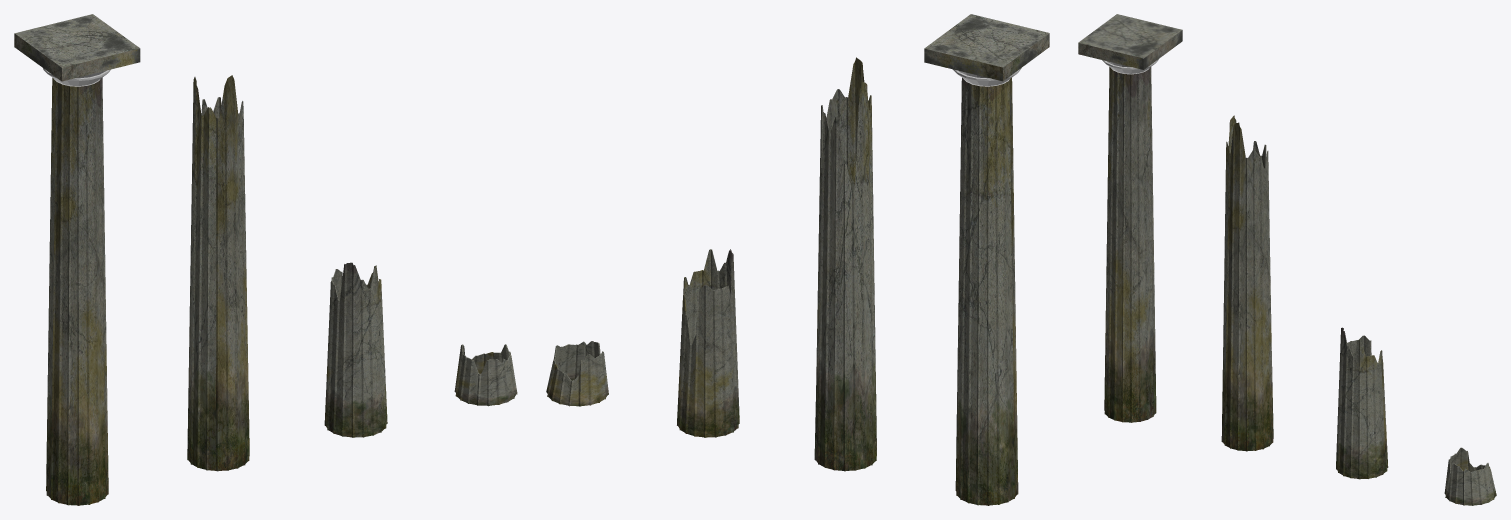
File: OldColumn.obj
3 renders of one model, left to right at view 1: azimuth 30°, elevation 25°; view 2: azimuth 150°, elevation 25°; view 3: azimuth 330°, elevation 25°, orthographic. The views are drawn at different scales.
Parts seen in each view (by area): view 1: OldColumn01_part_01, OldColumn02, OldColumn03, OldColumn01_part_03, OldColumn04; view 2: OldColumn01_part_01, OldColumn02, OldColumn03, OldColumn01_part_03, OldColumn04; view 3: OldColumn01_part_01, OldColumn02, OldColumn03, OldColumn01_part_03, OldColumn04.
Boxes of the visible parts, box(x1,y1,x2,y2) form: OldColumn01_part_01: box(46, 77, 108, 505); OldColumn02: box(187, 75, 249, 471); OldColumn03: box(324, 262, 387, 437); OldColumn01_part_03: box(14, 14, 140, 81); OldColumn04: box(454, 344, 517, 406); OldColumn01_part_01: box(955, 78, 1018, 505); OldColumn02: box(814, 57, 876, 471); OldColumn03: box(677, 249, 739, 437); OldColumn01_part_03: box(924, 14, 1049, 81); OldColumn04: box(546, 341, 608, 406); OldColumn01_part_01: box(1104, 67, 1156, 422); OldColumn02: box(1221, 115, 1273, 451); OldColumn03: box(1336, 327, 1388, 479); OldColumn01_part_03: box(1078, 14, 1182, 69); OldColumn04: box(1444, 447, 1496, 505).
Bounding box in the file's own units: 144 × 130 × 24.72.
